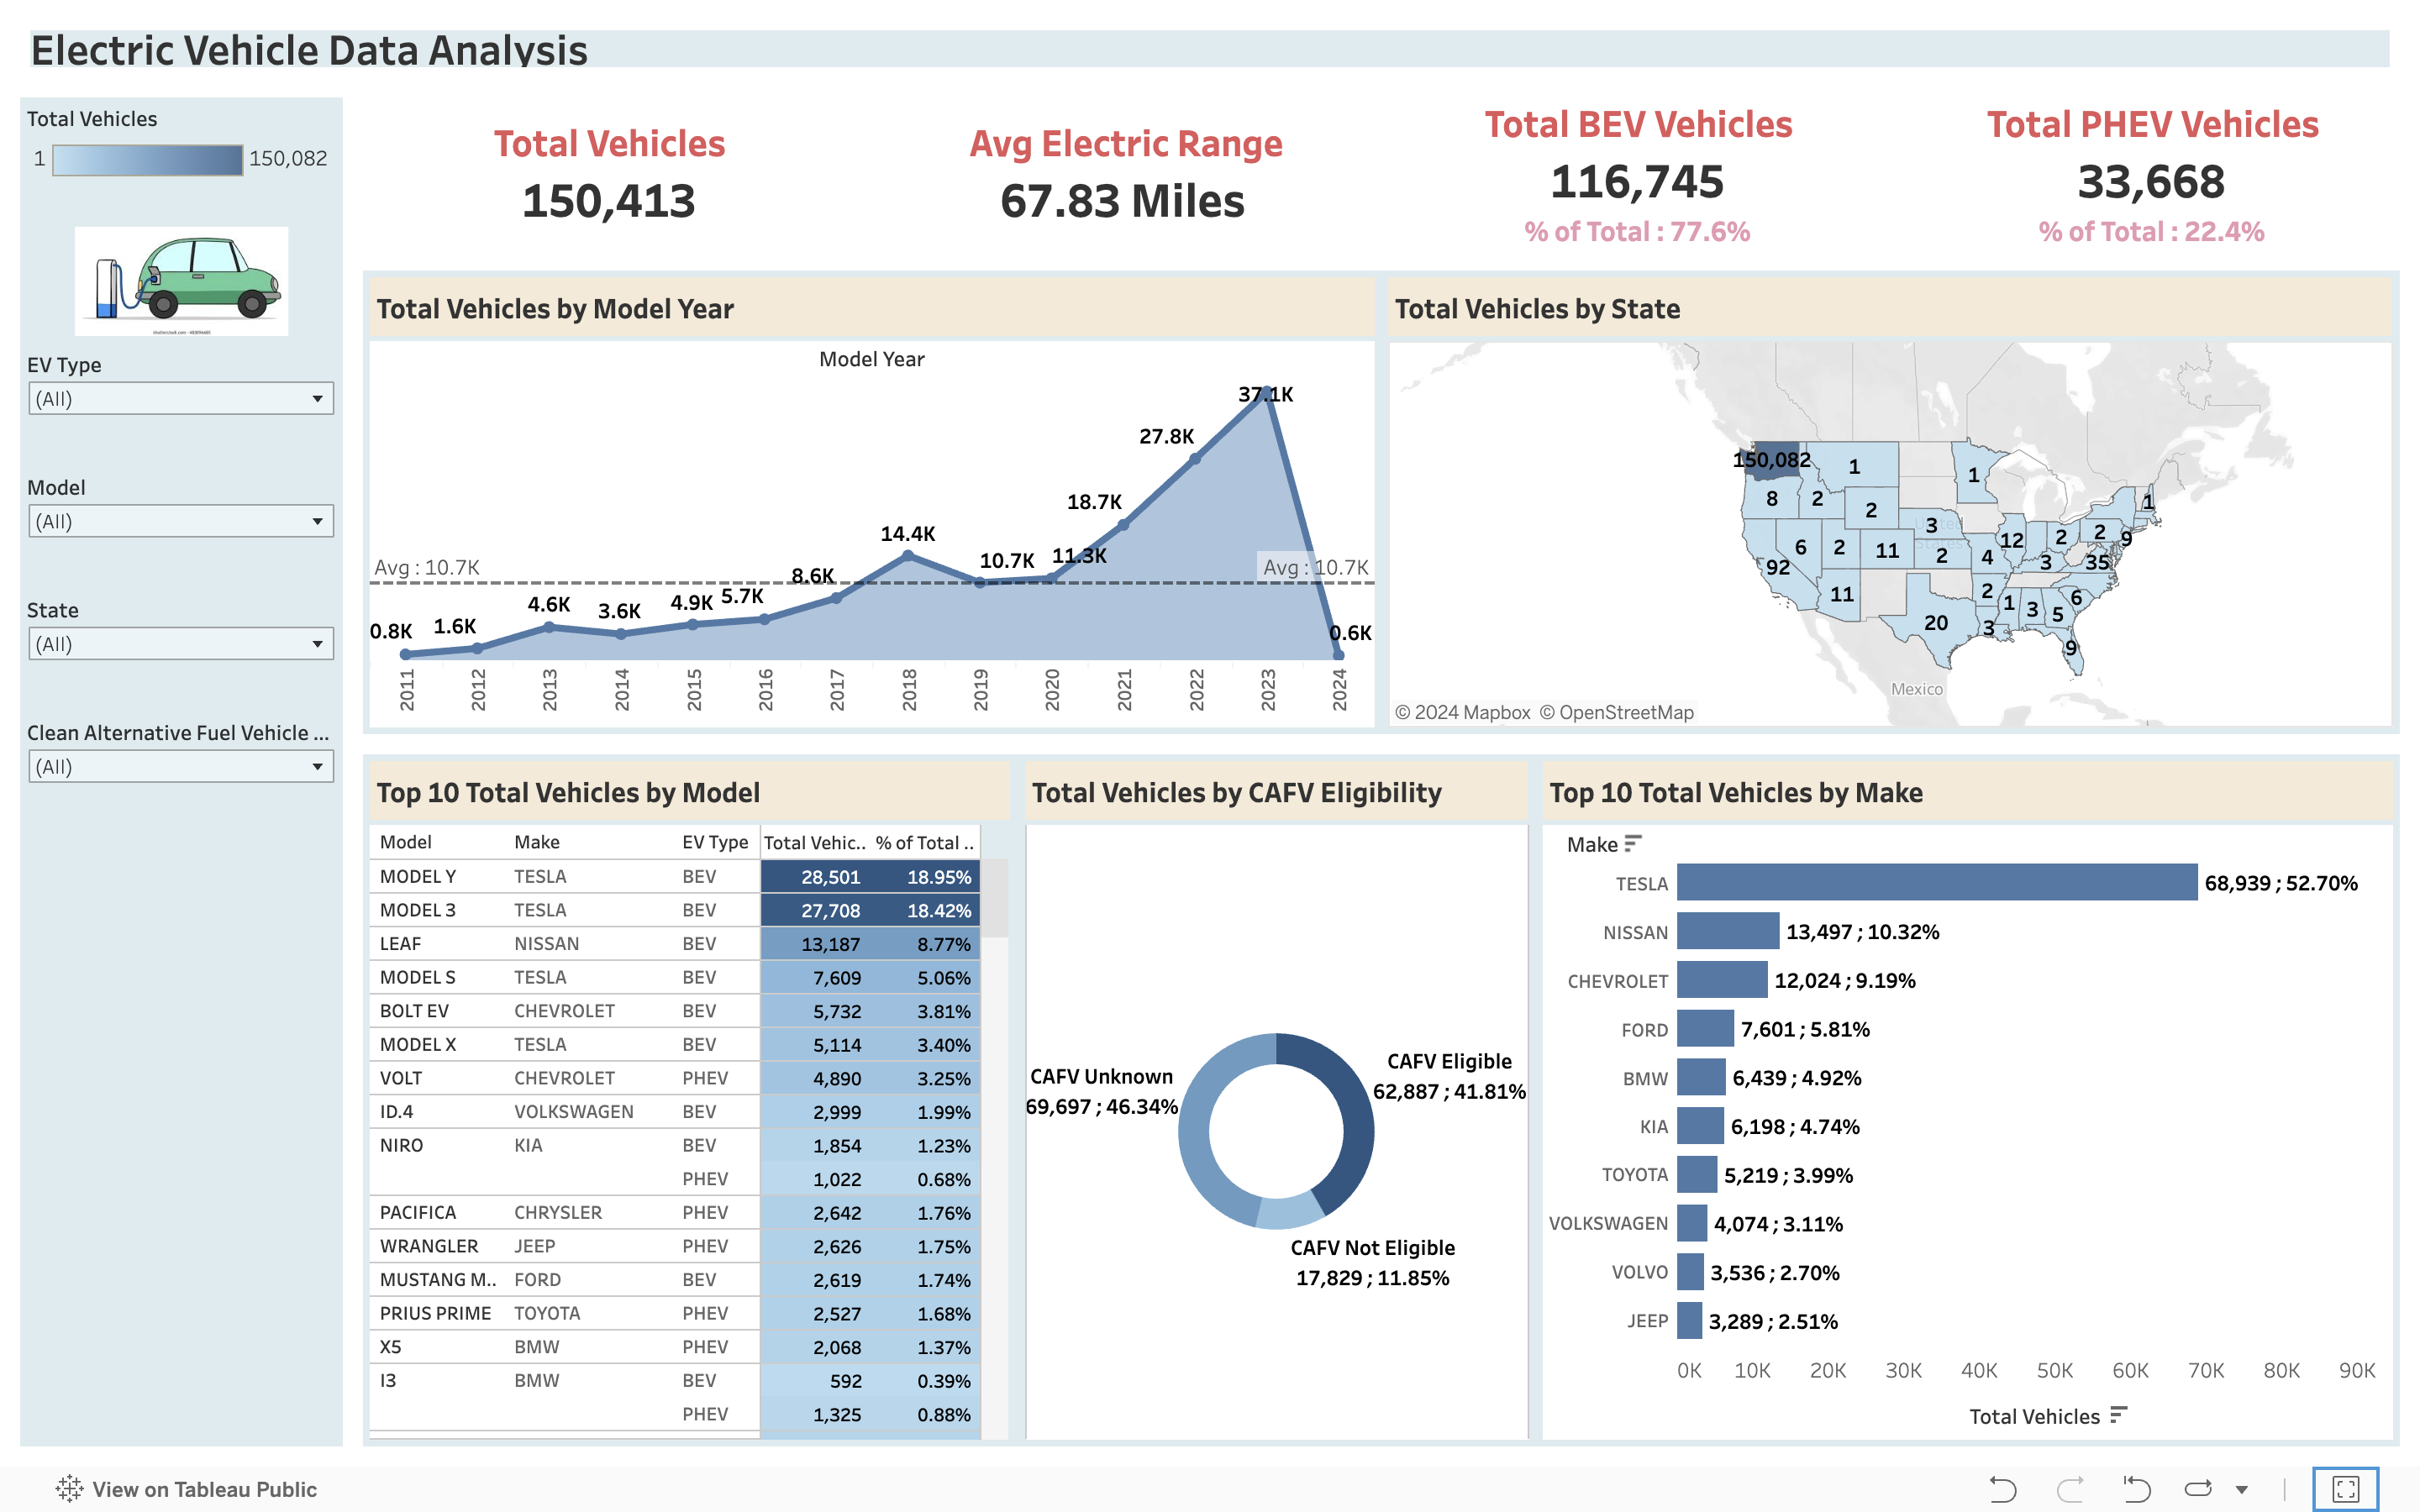

What the dashboard file says about the page in this screenshot:
{"tool":"tableau","page":{"name":"Dashboard 1","canvas":[1000,1000],"units":"permille","ordinal":0},"visuals":[{"type":"title","box":[4.9,7.2,990.2,54.3]},{"type":"worksheet","title":"Total Vehicles","mark":"Automatic","box":[146.3,61.5,212.2,124.2]},{"type":"worksheet","title":"Avg Electric Range","mark":"Automatic","box":[358.5,61.5,212.2,124.2]},{"type":"worksheet","title":"Total BEV Vehicles","mark":"Automatic","box":[570.7,61.5,212.2,124.2]},{"type":"worksheet","title":"Total PHEV Vehicles","mark":"Automatic","box":[782.9,61.5,212.2,124.2]},{"type":"legend","title":"Total Vehicles by State","param":"[federated.0hfnwgh05f2b4q16b4tw41o6a92o].[usr:Calculation_678425082926137344:qk]","box":[9.8,68.8,131.7,84.4]},{"type":"image","param":"Image/download (1).jpeg","box":[9.8,153.2,131.7,83.2]},{"type":"worksheet","title":"Total Vehicles by Model Year","mark":"Area","rows":["Calculation_678425082926137344","Calculation_678425082926137344"],"cols":["Model Year"],"box":[151.2,193,419.5,332.9]},{"type":"worksheet","title":"Total Vehicles by State","mark":"Multipolygon","box":[570.7,193,419.5,332.9]},{"type":"filter","title":"Top 10 Total Vehicles by Make","param":"[federated.0hfnwgh05f2b4q16b4tw41o6a92o].[none:Electric Vehicle Type:nk]","box":[9.8,236.4,131.7,83.2]},{"type":"filter","title":"Total Vehicles by Model Year","param":"[federated.0hfnwgh05f2b4q16b4tw41o6a92o].[none:Model:nk]","box":[9.8,319.7,131.7,83.2]},{"type":"filter","title":"Total Vehicles by Model Year","param":"[federated.0hfnwgh05f2b4q16b4tw41o6a92o].[none:State:nk]","box":[9.8,402.9,131.7,83.2]},{"type":"filter","title":"Total Vehicles by Model Year","param":"[federated.0hfnwgh05f2b4q16b4tw41o6a92o].[none:Clean Alternative Fuel Vehicle (C","box":[9.8,486.1,131.7,83.2]},{"type":"worksheet","title":"Top 10 Total Vehicles by Model","mark":"Square","rows":["Model","Make","Electric Vehicle Type"],"box":[151,540.4,317.1,445]},{"type":"worksheet","title":"Total Vehicles by CAFV Eligibility","mark":"Pie","rows":["Calculation_678425082964103176","Calculation_678425082964103176"],"box":[468,540.4,250.4,445]},{"type":"worksheet","title":"Top 10 Total Vehicles by Make","mark":"Automatic","rows":["Make"],"cols":["Calculation_678425082926137344"],"box":[718.4,540.4,271.8,445]},{"type":"blank","box":[9.8,569.4,131.7,83.2]},{"type":"blank","box":[9.8,652.6,131.7,83.2]},{"type":"blank","box":[9.8,735.8,131.7,83.2]},{"type":"blank","box":[9.8,819.1,131.7,83.2]},{"type":"blank","box":[9.8,902.3,131.7,83.2]}]}

Visuals, with their boxes on the dashboard's canvas, which has no fixed pixel size, in thousandths of its width and height (x1, y1, x2, y2). These are canvas units, not pixel positions in the 2420x1512 screenshot, which may show the page scaled, cropped or inside an application window:
title: 5 7 995 62
"Total Vehicles" worksheet: 146 62 358 186
"Avg Electric Range" worksheet: 358 62 571 186
"Total BEV Vehicles" worksheet: 571 62 783 186
"Total PHEV Vehicles" worksheet: 783 62 995 186
"Total Vehicles by State" legend: 10 69 142 153
image: 10 153 142 236
"Total Vehicles by Model Year" worksheet (Area marks): 151 193 571 526
"Total Vehicles by State" worksheet (Multipolygon marks): 571 193 990 526
"Top 10 Total Vehicles by Make" filter: 10 236 142 320
"Total Vehicles by Model Year" filter: 10 320 142 403
"Total Vehicles by Model Year" filter: 10 403 142 486
"Total Vehicles by Model Year" filter: 10 486 142 569
"Top 10 Total Vehicles by Model" worksheet (Square marks): 151 540 468 985
"Total Vehicles by CAFV Eligibility" worksheet (Pie marks): 468 540 718 985
"Top 10 Total Vehicles by Make" worksheet: 718 540 990 985
blank: 10 569 142 653
blank: 10 653 142 736
blank: 10 736 142 819
blank: 10 819 142 902
blank: 10 902 142 986
